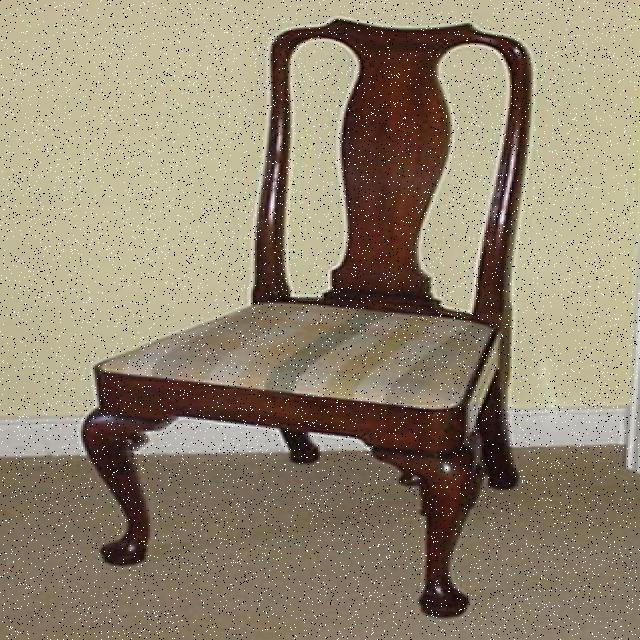Chair: (42, 0, 638, 640)
